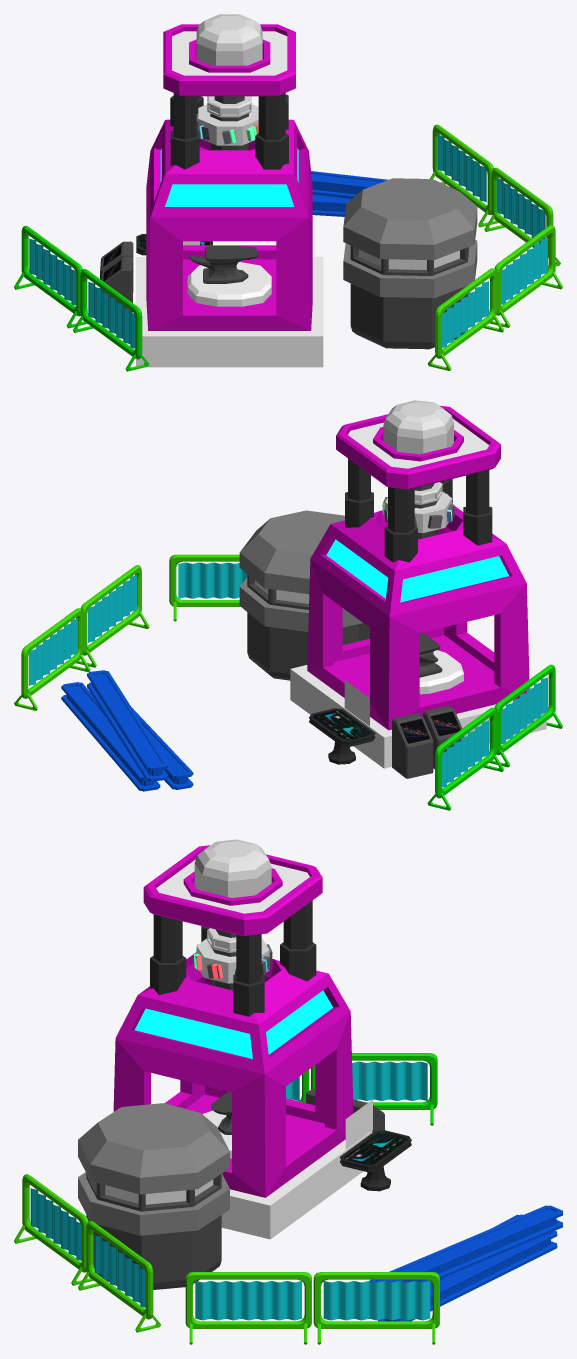
Rendered from smithy_lv1.fbx.
3 renders of one model, top to bottom at view 1: azimuth 30°, elevation 25°; view 2: azimuth 150°, elevation 25°; view 3: azimuth 270°, elevation 25°, orthographic. The views are drawn at different scales.
Parts seen in each view (by area): view 1: Plane.054; view 2: Plane.054; view 3: Plane.054.
Part boxes in pixels (x1=…): Plane.054: x1=14, y1=14, x2=562, y2=371; Plane.054: x1=14, y1=400, x2=562, y2=810; Plane.054: x1=14, y1=839, x2=562, y2=1344.
Bounding box in the file's own units: 1964 × 1350 × 1972.
